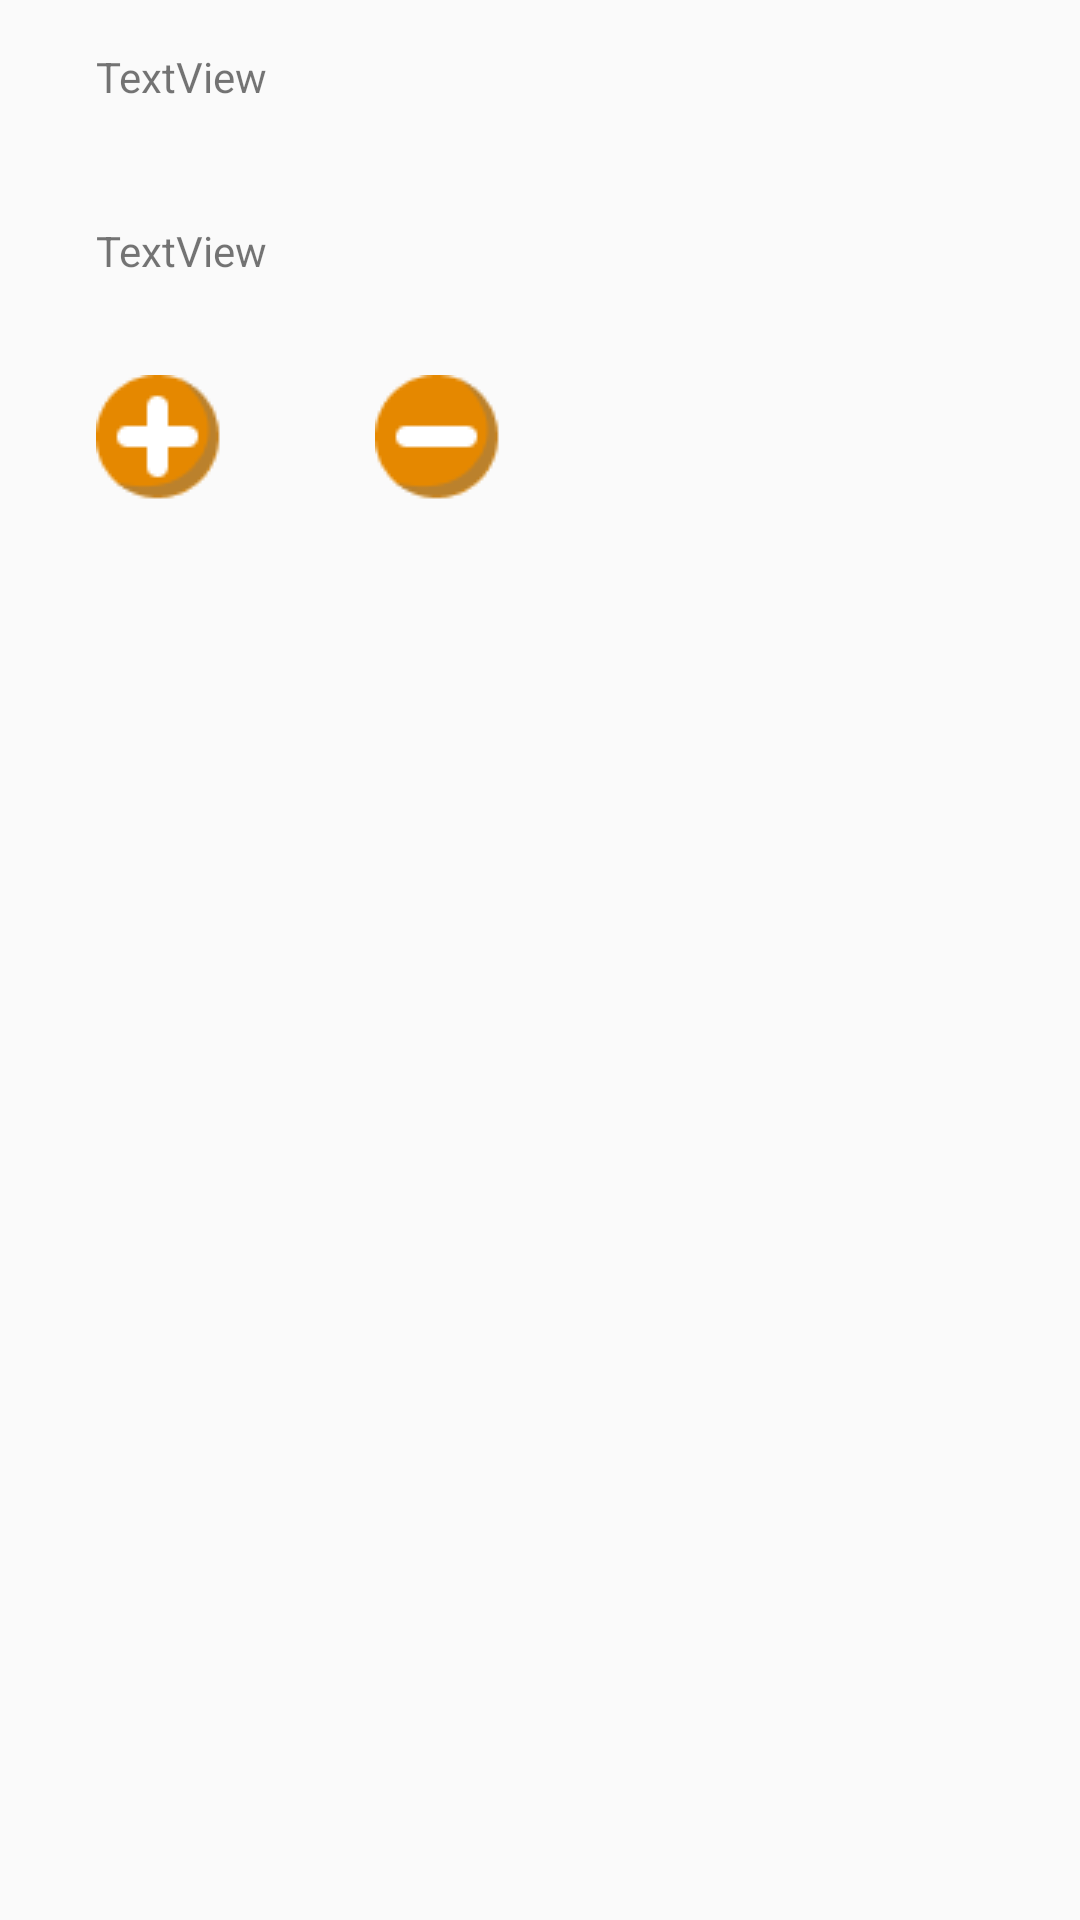

Icon click points for this 1080px×1920px phone screenshot, format (x,y):
minus num pill: (437,437)
plus num pill: (158,437)
